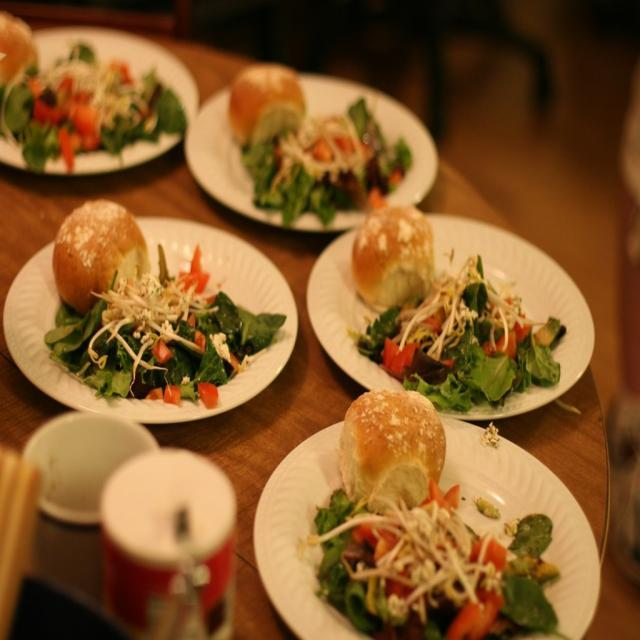Salad: (32, 228, 283, 409), (299, 483, 570, 639), (335, 232, 571, 410), (233, 45, 433, 215), (7, 25, 190, 187)
